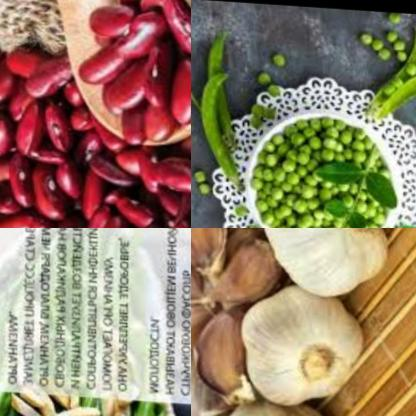fasol: (0, 0, 191, 228)
garlic: (231, 275, 370, 415), (261, 228, 385, 298), (191, 298, 255, 404), (200, 229, 275, 314), (204, 386, 340, 416), (191, 228, 232, 274), (191, 354, 221, 416), (191, 253, 204, 357)
peas: (249, 116, 383, 228), (194, 30, 246, 194), (368, 18, 416, 124), (361, 9, 416, 73), (258, 45, 285, 115)
